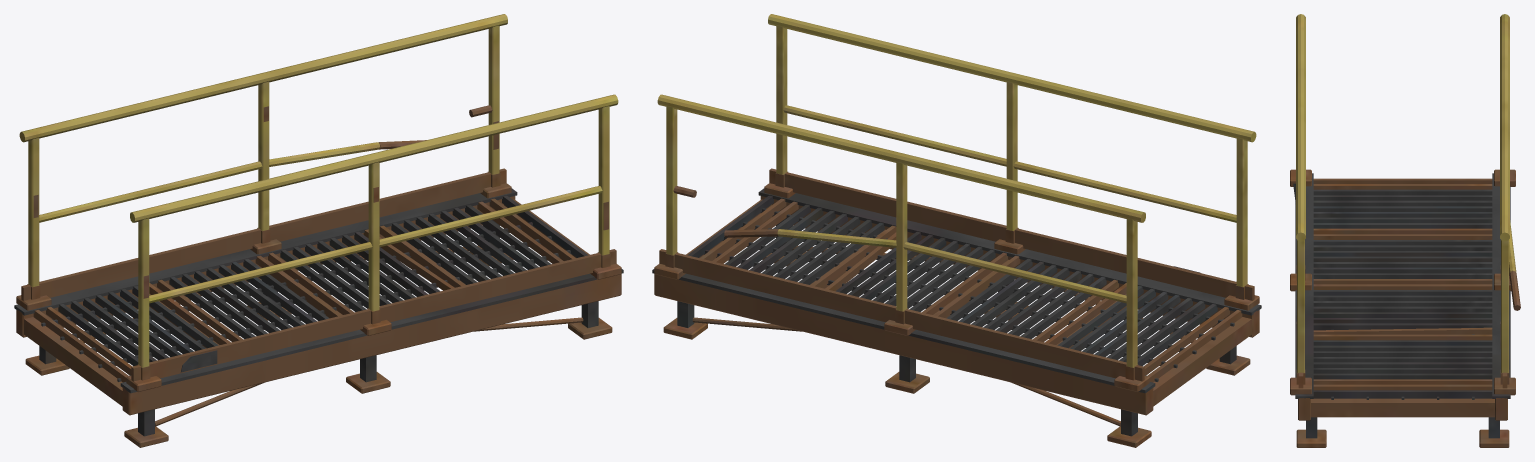
The model's file is Y25_metal_catwalk.glb.
3 renders of one model, left to right at view 1: azimuth 30°, elevation 25°; view 2: azimuth 150°, elevation 25°; view 3: azimuth 270°, elevation 25°, orthographic. The views are drawn at different scales.
Visible parts, largest first — view 1: Square support foot; view 2: Square support foot; view 3: Square support foot.
Boxes of the visible parts, left/top/right/bottom form: Square support foot: left=14, top=14, right=623, bottom=447; Square support foot: left=652, top=14, right=1261, bottom=447; Square support foot: left=1290, top=14, right=1520, bottom=447.
Size of the model in its own units: 3 by 1.37 by 1.31.
3 materials, 3 textured.
